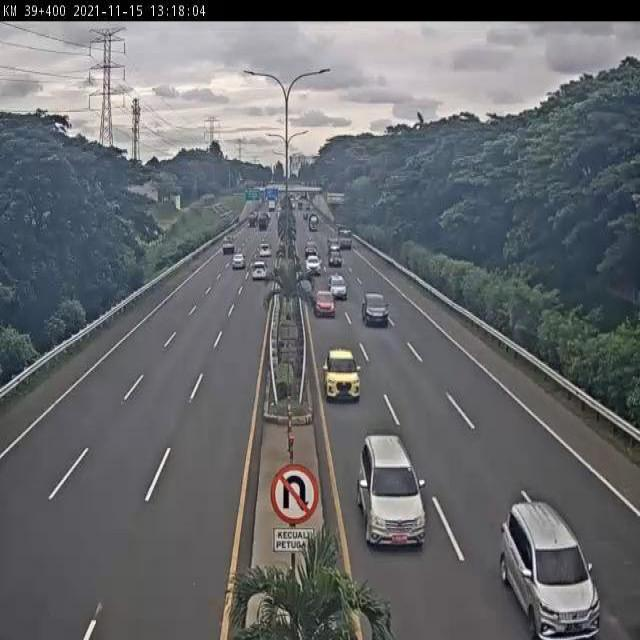car: (499, 502, 602, 638), (355, 433, 428, 548), (324, 349, 362, 400), (360, 291, 388, 325), (313, 287, 336, 316), (250, 260, 270, 284), (327, 274, 347, 298)
